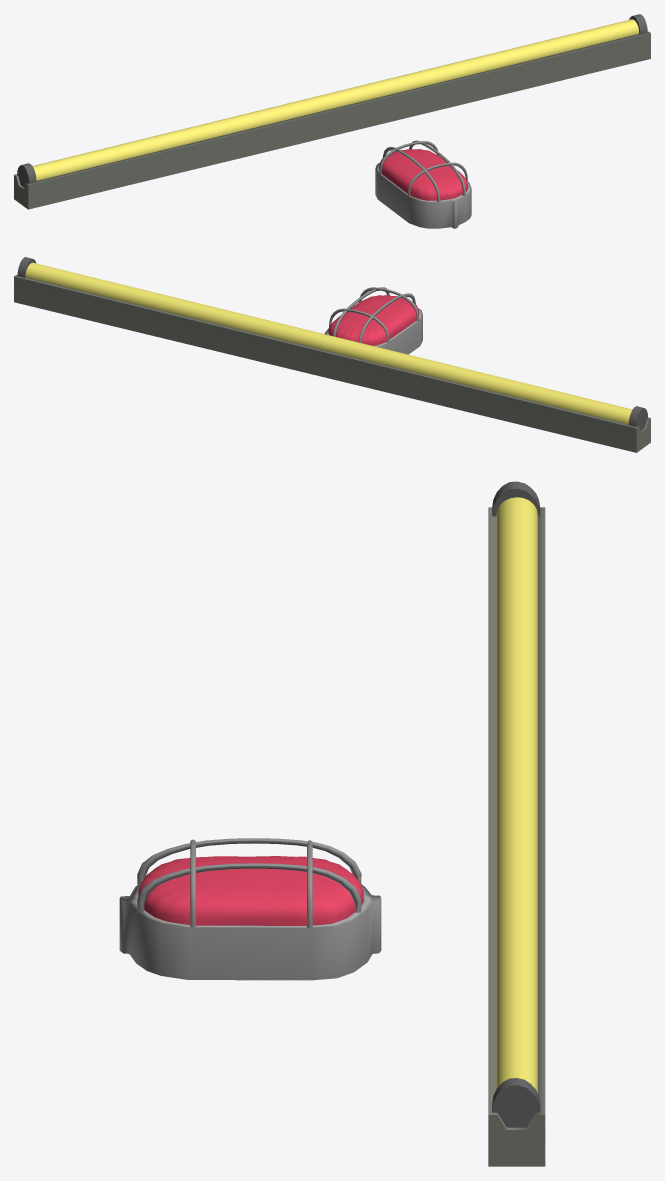
The model's file is LightingProps_SeamMarked1.fbx.
3 renders of one model, top to bottom at view 1: azimuth 30°, elevation 25°; view 2: azimuth 150°, elevation 25°; view 3: azimuth 270°, elevation 25°, orthographic. The views are drawn at different scales.
Visible parts, largest first — view 1: Light_Base, Main_Light, polySurface1, Outer_Part_1; view 2: Light_Base, Main_Light, polySurface1, Outer_Part_1; view 3: polySurface1, Main_Light, Light_Base, Outer_Part_2, polySurface5, polySurface4.
Boxes of the visible parts, x1,y1,x2,y2 form: Light_Base: (14,31,650,209); Main_Light: (32,19,639,180); polySurface1: (375,149,471,228); Outer_Part_1: (17,163,36,187); Light_Base: (14,275,650,452); Main_Light: (25,262,632,424); polySurface1: (324,295,422,354); Outer_Part_1: (628,406,647,430); polySurface1: (119,856,381,980); Main_Light: (496,497,537,1093); Light_Base: (488,507,545,1166); Outer_Part_2: (492,1078,540,1127); polySurface5: (137,863,361,912); polySurface4: (137,838,361,887).
Size of the model in its own units: 268 by 29.5 by 79.41.
